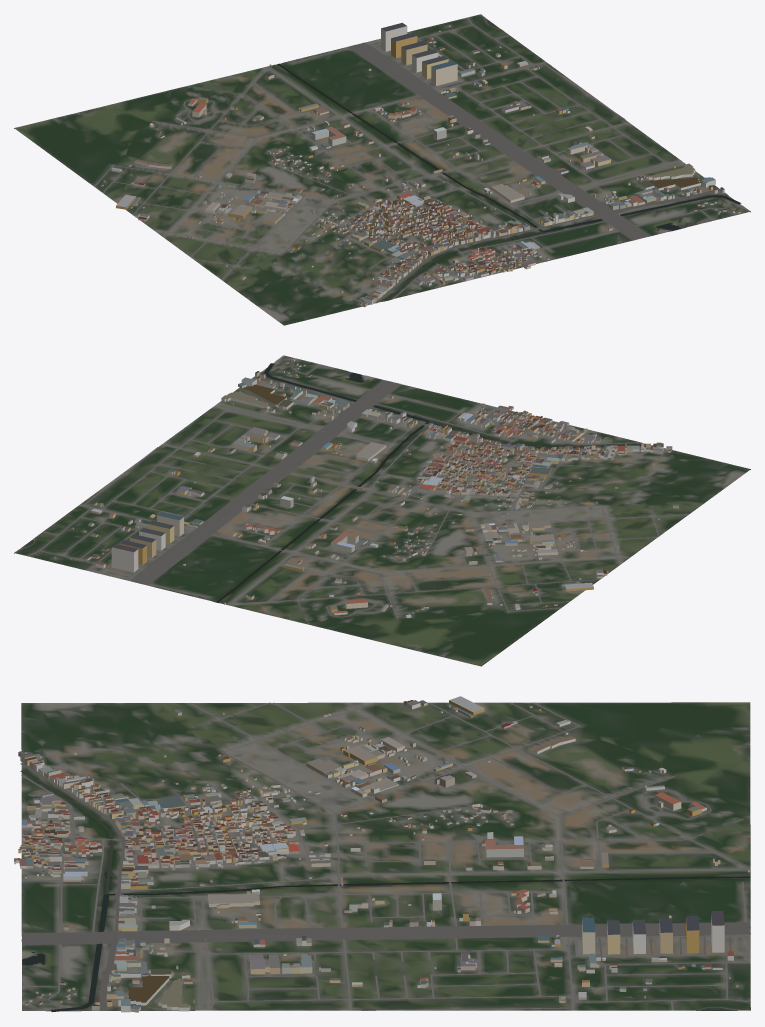
3 views of the same model, one above another, from view 1: azimuth 30°, elevation 25°; view 2: azimuth 150°, elevation 25°; view 3: azimuth 270°, elevation 25° (orthographic). The views are drawn at different scales.
Parts seen in each view (by area): view 1: ground, buildings, roads, water; view 2: ground, buildings, roads, water; view 3: ground, buildings, roads, water.
Boxes of the visible parts, x1=… form: ground: x1=14, y1=14, x2=750, y2=325; buildings: x1=100, y1=22, x2=740, y2=307; roads: x1=94, y1=14, x2=723, y2=304; water: x1=277, y1=19, x2=741, y2=300; ground: x1=14, y1=355, x2=750, y2=666; buildings: x1=54, y1=357, x2=678, y2=617; roads: x1=14, y1=364, x2=688, y2=621; water: x1=21, y1=363, x2=641, y2=602; ground: x1=21, y1=702, x2=750, y2=1011; buildings: x1=14, y1=696, x2=750, y2=1012; roads: x1=20, y1=702, x2=750, y2=1010; water: x1=20, y1=770, x2=750, y2=1012.
Bounding box in the file's own units: 1425 × 61.81 × 1417.
